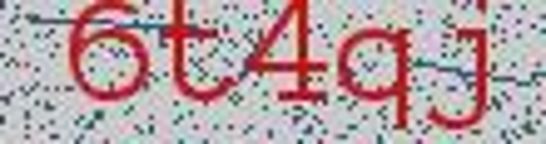4: (242, 1, 333, 118)
6: (64, 1, 153, 112)
j: (422, 1, 510, 142)
q: (332, 18, 419, 142)
t: (156, 1, 239, 114)
